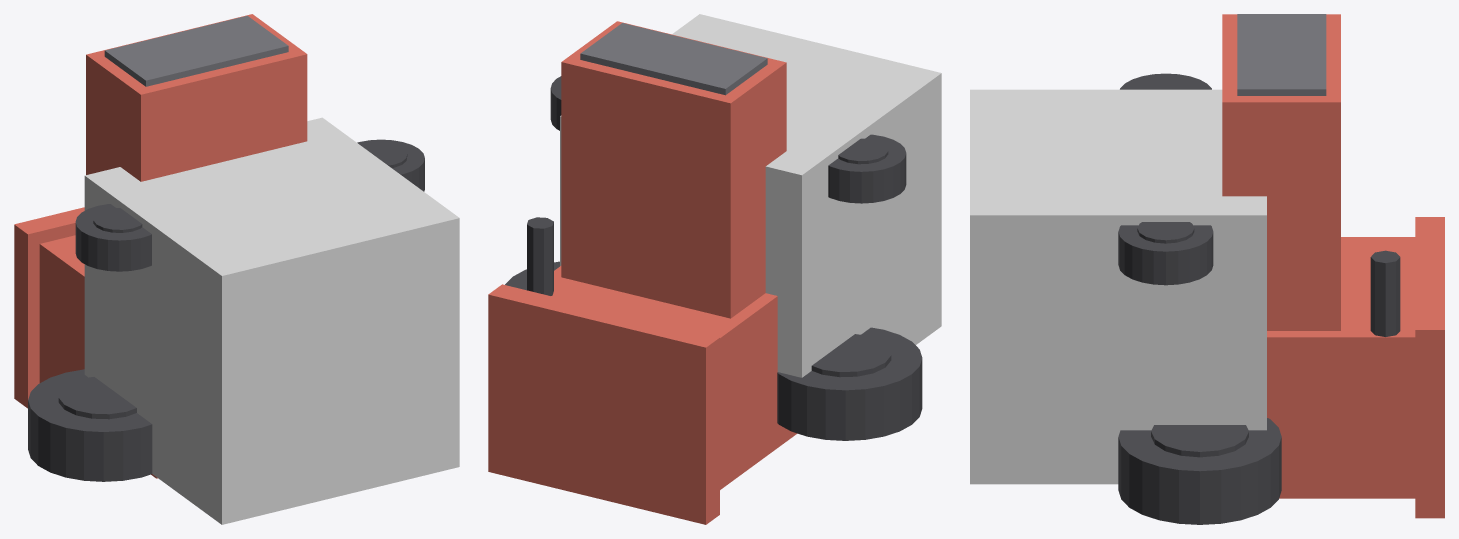
Rendered from tractor_4.glb.
3 views of the same model, side by side, from view 1: azimuth 30°, elevation 25°; view 2: azimuth 150°, elevation 25°; view 3: azimuth 270°, elevation 25° (orthographic). The views are drawn at different scales.
Visible parts, largest first — view 1: Cube, Bonnet, Wheel_RR, Grille, Cabin, Roof, Wheel_FR, Wheel_FL; view 2: Bonnet, Cube, Roof, Cabin, Wheel_RR, Grille, Wheel_FR, Exhaust, Wheel_FL; view 3: Cube, Cabin, Bonnet, Wheel_RL, Roof, Grille, Wheel_FL, Exhaust, Wheel_FR.
Boxes of the visible parts, x1,y1,x2,y2 form: Cube: (84,117,459,524); Bonnet: (86,14,307,181); Wheel_RR: (28,369,152,481); Grille: (104,15,288,86); Cabin: (39,235,157,478); Roof: (14,207,84,408); Wheel_FR: (75,204,151,271); Wheel_FL: (357,139,424,191); Bonnet: (561,21,786,318); Cube: (560,14,941,377); Roof: (488,284,719,524); Cabin: (551,266,797,489); Wheel_RR: (777,327,922,440); Grille: (580,23,767,95); Wheel_FR: (828,134,906,203); Exhaust: (527,217,553,295); Wheel_FL: (550,76,561,130); Cube: (970,89,1266,484); Cabin: (1267,237,1415,498); Bonnet: (1222,14,1340,330); Wheel_RL: (1118,418,1281,524); Roof: (1415,217,1444,518); Grille: (1237,14,1326,95); Wheel_FL: (1118,222,1213,285); Exhaust: (1370,250,1400,336); Wheel_FR: (1120,73,1211,89).
Size of the model in its own units: 3.3 by 3.08 by 3.2.
